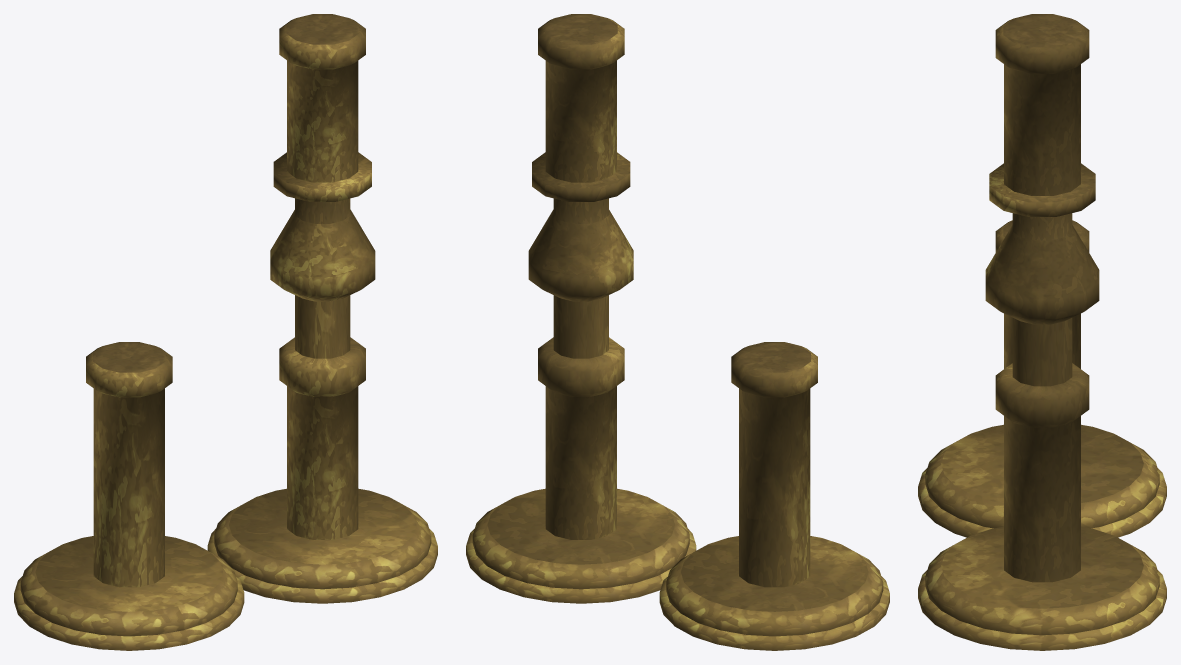
The model's file is DI_016_candle_stand_var01.glb.
3 renders of one model, left to right at view 1: azimuth 30°, elevation 25°; view 2: azimuth 150°, elevation 25°; view 3: azimuth 270°, elevation 25°, orthographic. The views are drawn at different scales.
Visible parts, largest first — view 1: CandleStand.001, CandleStand.004, CandleStand.005; view 2: CandleStand.001, CandleStand.004, CandleStand.005; view 3: CandleStand.001, CandleStand.004, CandleStand.005.
Boxes of the visible parts, bbox=[...] form: CandleStand.001: bbox=[207, 152, 437, 603]; CandleStand.004: bbox=[14, 342, 244, 650]; CandleStand.005: bbox=[279, 14, 365, 182]; CandleStand.001: bbox=[466, 152, 696, 603]; CandleStand.004: bbox=[659, 342, 889, 650]; CandleStand.005: bbox=[538, 14, 624, 182]; CandleStand.001: bbox=[918, 163, 1166, 650]; CandleStand.004: bbox=[918, 220, 1166, 537]; CandleStand.005: bbox=[995, 14, 1089, 195].
Bounding box in the file's own units: 1.52 × 1.95 × 0.7735.
Materials: 1 (1 with a texture image).
